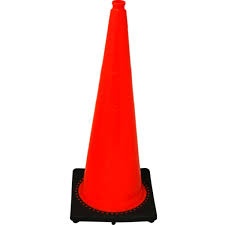cones: (69, 1, 162, 225)
